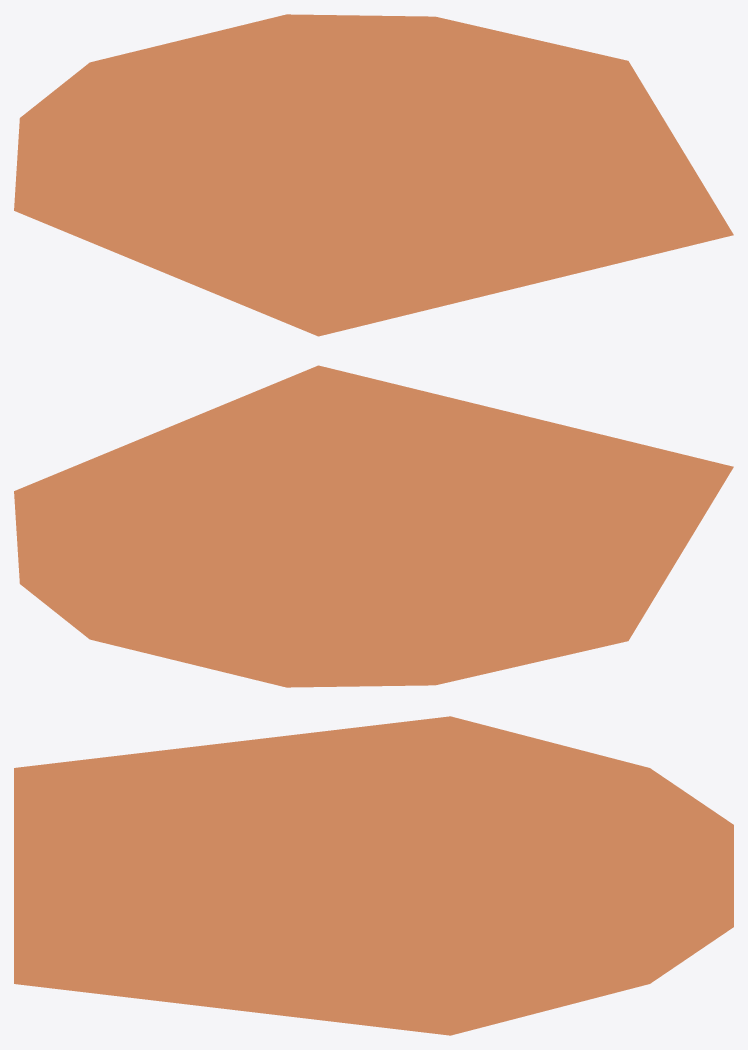
The model's file is Portal.fbx.
3 views of the same model, one above another, from view 1: azimuth 30°, elevation 25°; view 2: azimuth 150°, elevation 25°; view 3: azimuth 270°, elevation 25° (orthographic). The views are drawn at different scales.
Visible parts, largest first — view 1: Cube.001; view 2: Cube.001; view 3: Cube.001.
Part boxes in pixels (bbox=[...]): Cube.001: bbox=[14, 14, 733, 336]; Cube.001: bbox=[14, 365, 733, 687]; Cube.001: bbox=[14, 716, 733, 1035].
Bounding box in the file's own units: 949 × 0.000187 × 904.
